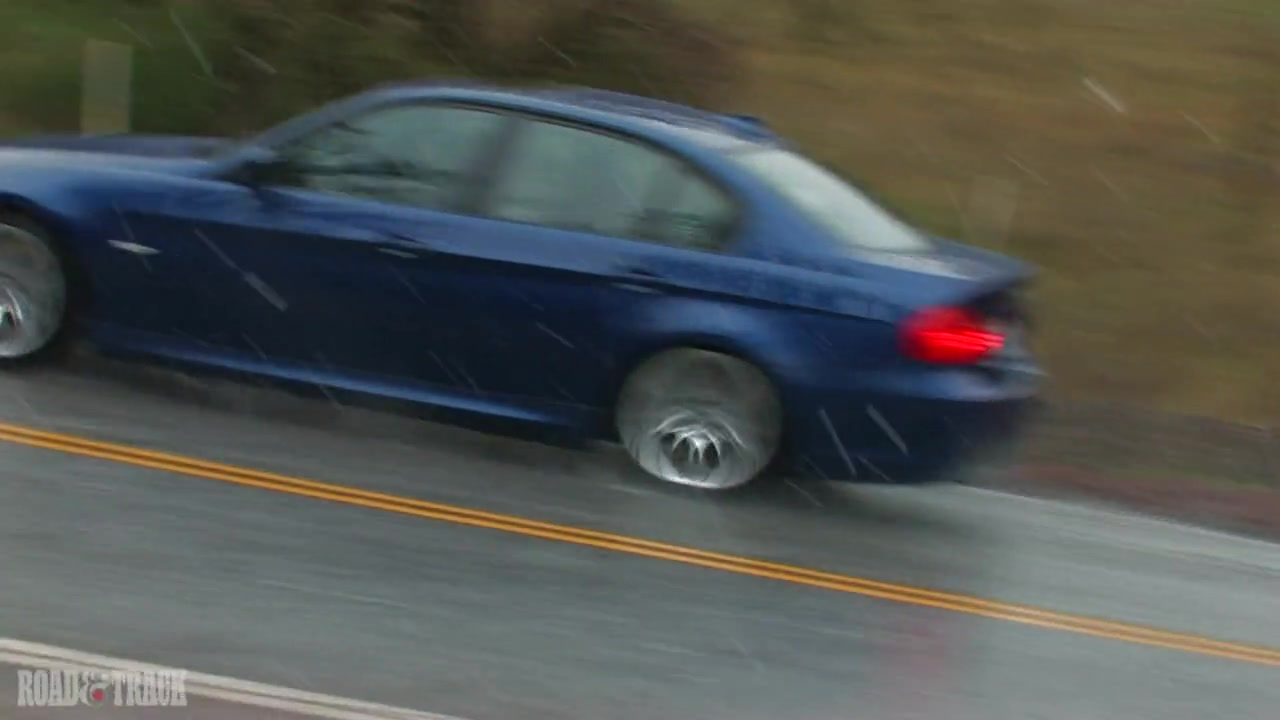car: (1, 73, 1049, 503)
